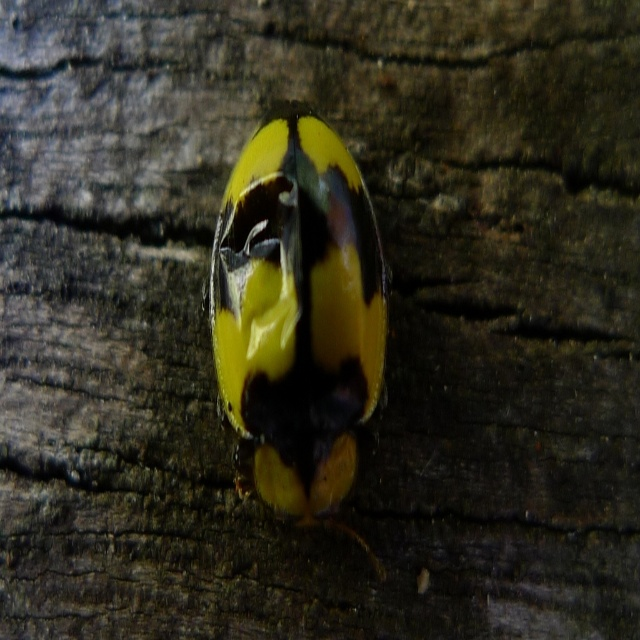Ladybug: (201, 101, 392, 579)
